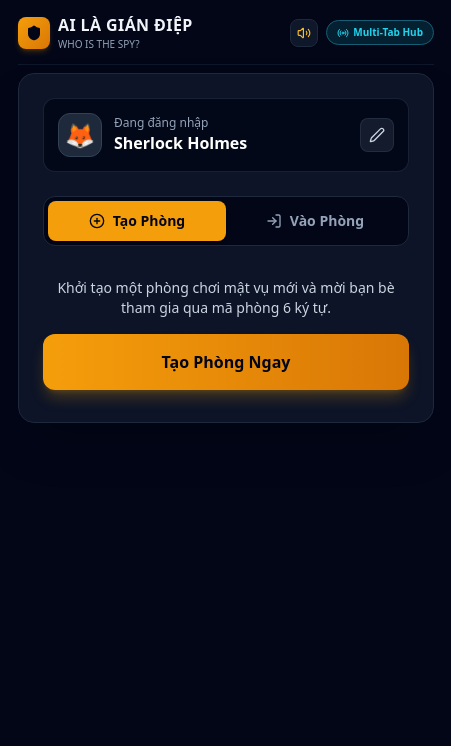
it: App Flow & Orchestration › khi bấm Tạo Phòng Ngay thì khởi tạo phòng và chuyển sang WaitingRoom
The width and height of the screenshot is (451, 746).
Click the button "Tạo Phòng Ngay".
click(226, 362)  # box [43,334,409,390]
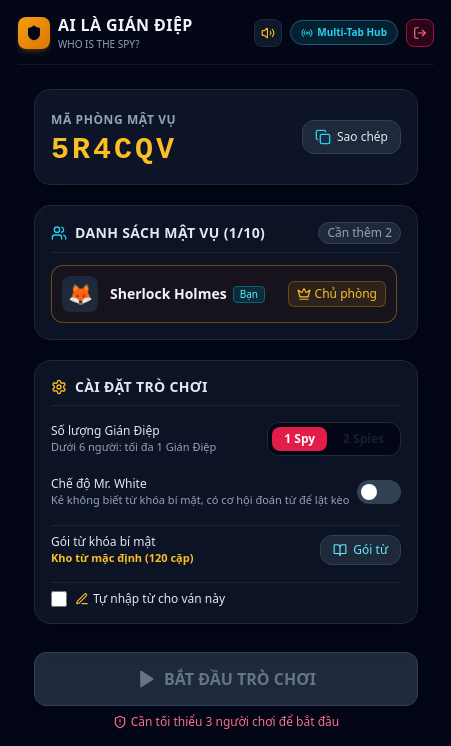
Check: the text "Sherlock Holmes" is shown, box [110,284,227,304]
Check: the text "Mã phòng mật vụ" is shown, box [51,111,176,128]
Check: the text "Chủ phòng" is shown, box [315,286,377,302]
